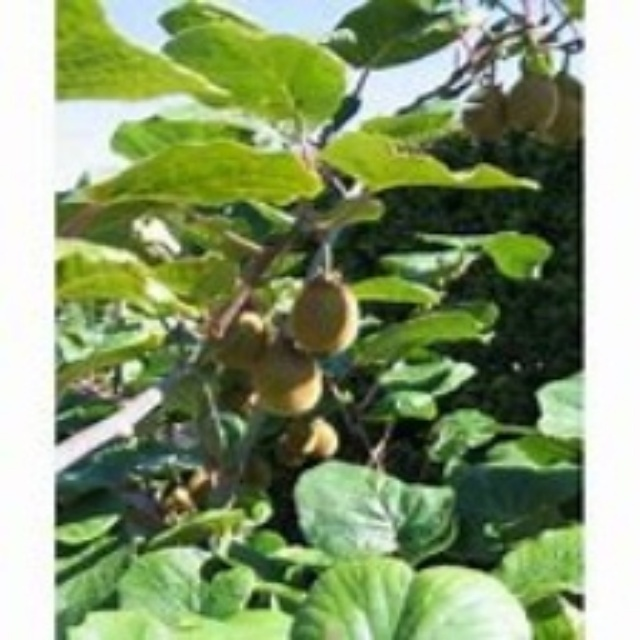kiwi: (223, 317, 337, 463), (459, 57, 593, 168), (299, 274, 350, 358)
